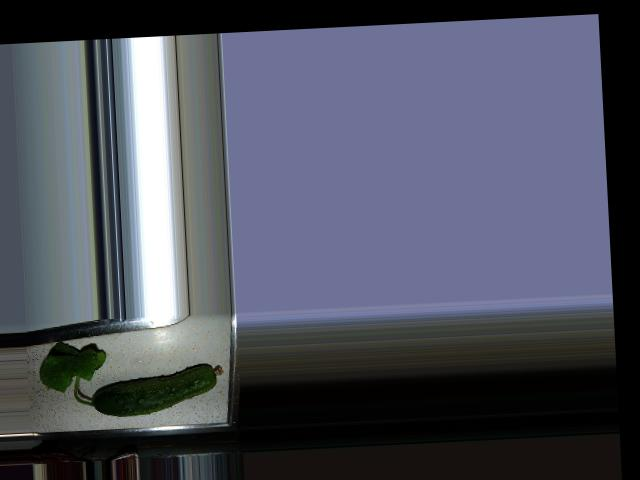cucumber: (89, 363, 225, 418)
